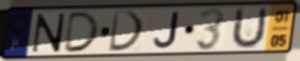3: (194, 7, 230, 53)
D: (107, 9, 147, 53), (61, 10, 101, 54)
J: (152, 11, 180, 50)
N: (29, 12, 68, 54)
U: (228, 6, 269, 51)
